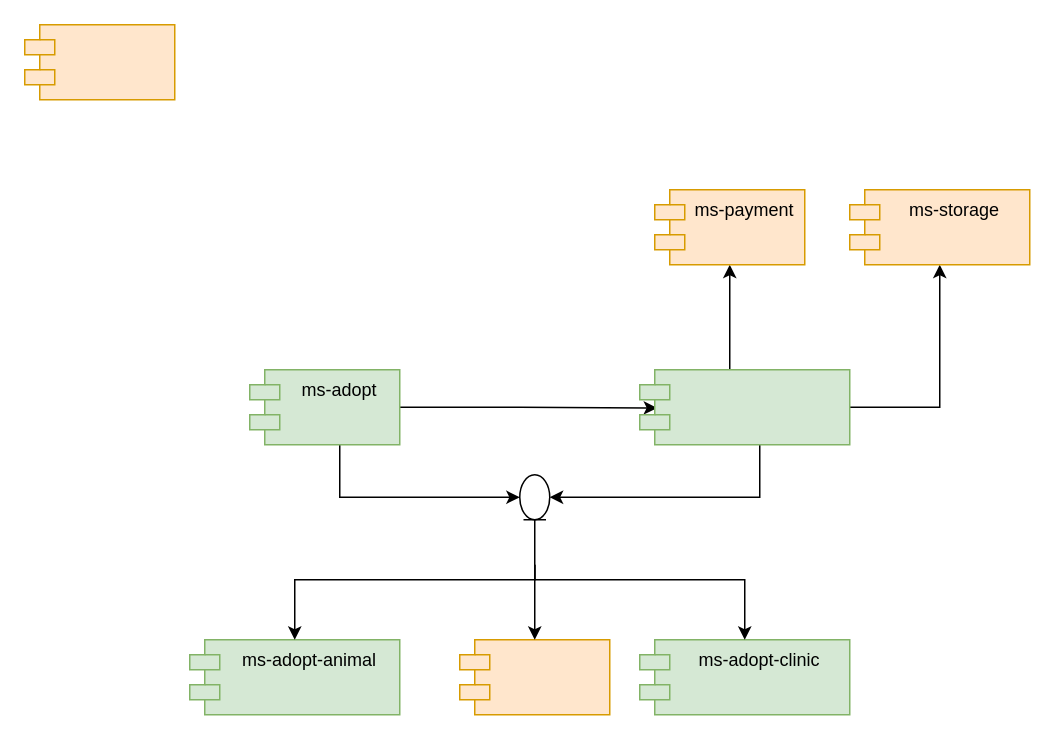
Some shapes in this 1055 by 740 pixel diagram are drawn without their labels. Here are the shapes that lost their labels. From the top down, the centre of each, then its label:
pixel 99 61: ms-auth
pixel 744 406: ms-adopt-process
pixel 534 676: ms-user
